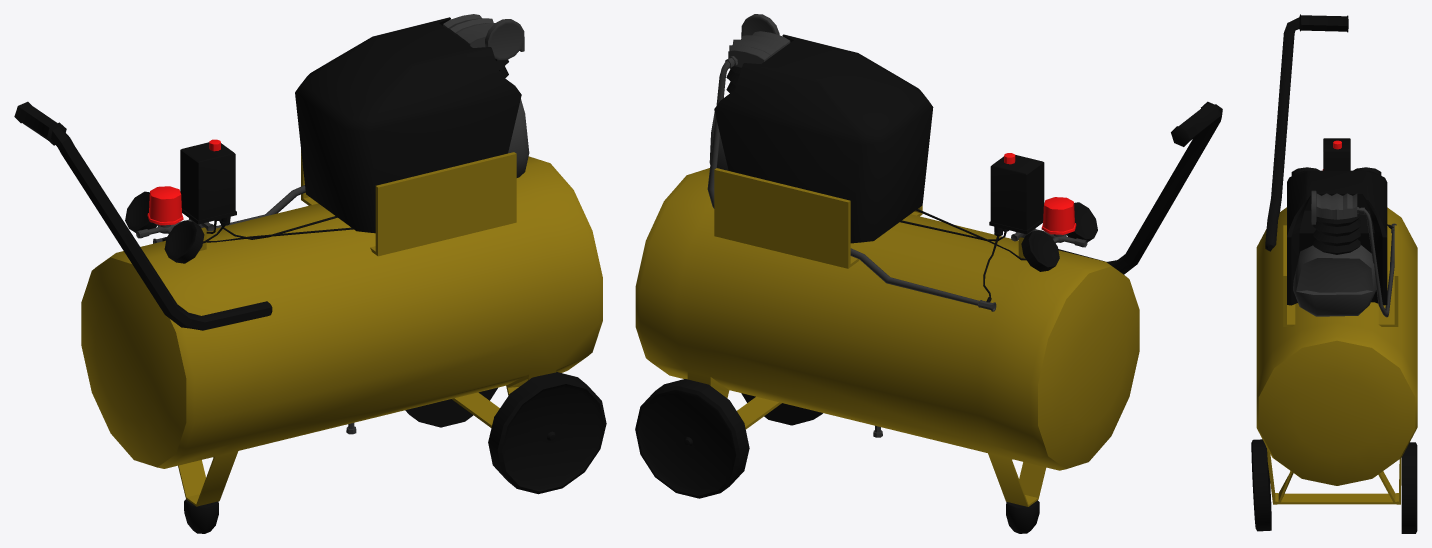
File: ART-MOD-A-AIRCOMPRESSOR-001.FBX
3 renders of one model, left to right at view 1: azimuth 30°, elevation 25°; view 2: azimuth 150°, elevation 25°; view 3: azimuth 270°, elevation 25°, orthographic. The views are drawn at different scales.
Visible parts, largest first — view 1: Cylinder001; view 2: Cylinder001; view 3: Cylinder001.
Boxes of the visible parts, x1,y1,x2,y2 form: Cylinder001: (14, 14, 606, 533); Cylinder001: (635, 14, 1222, 533); Cylinder001: (1251, 14, 1417, 533).
Bounding box in the file's own units: 92.36 × 75.99 × 32.89.
